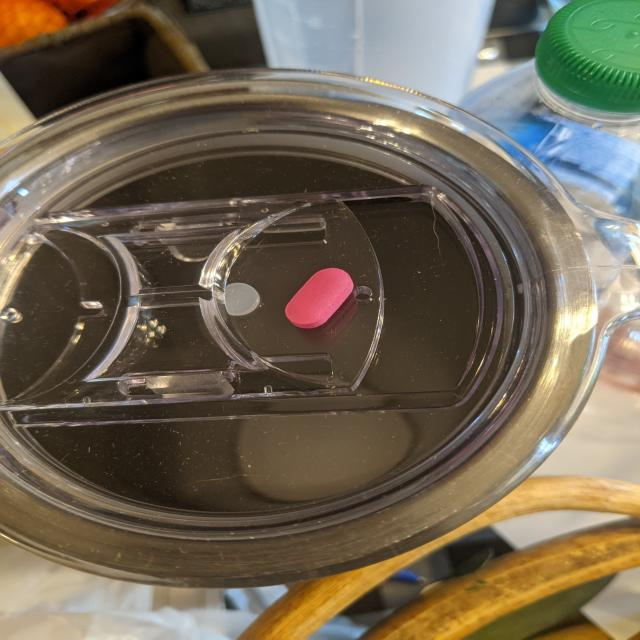non-organic waste: (284, 267, 355, 329)
